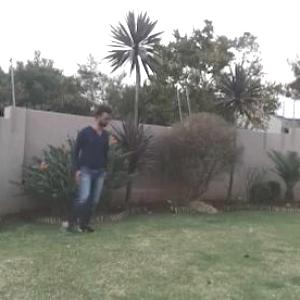follow: (72, 99, 110, 234)
